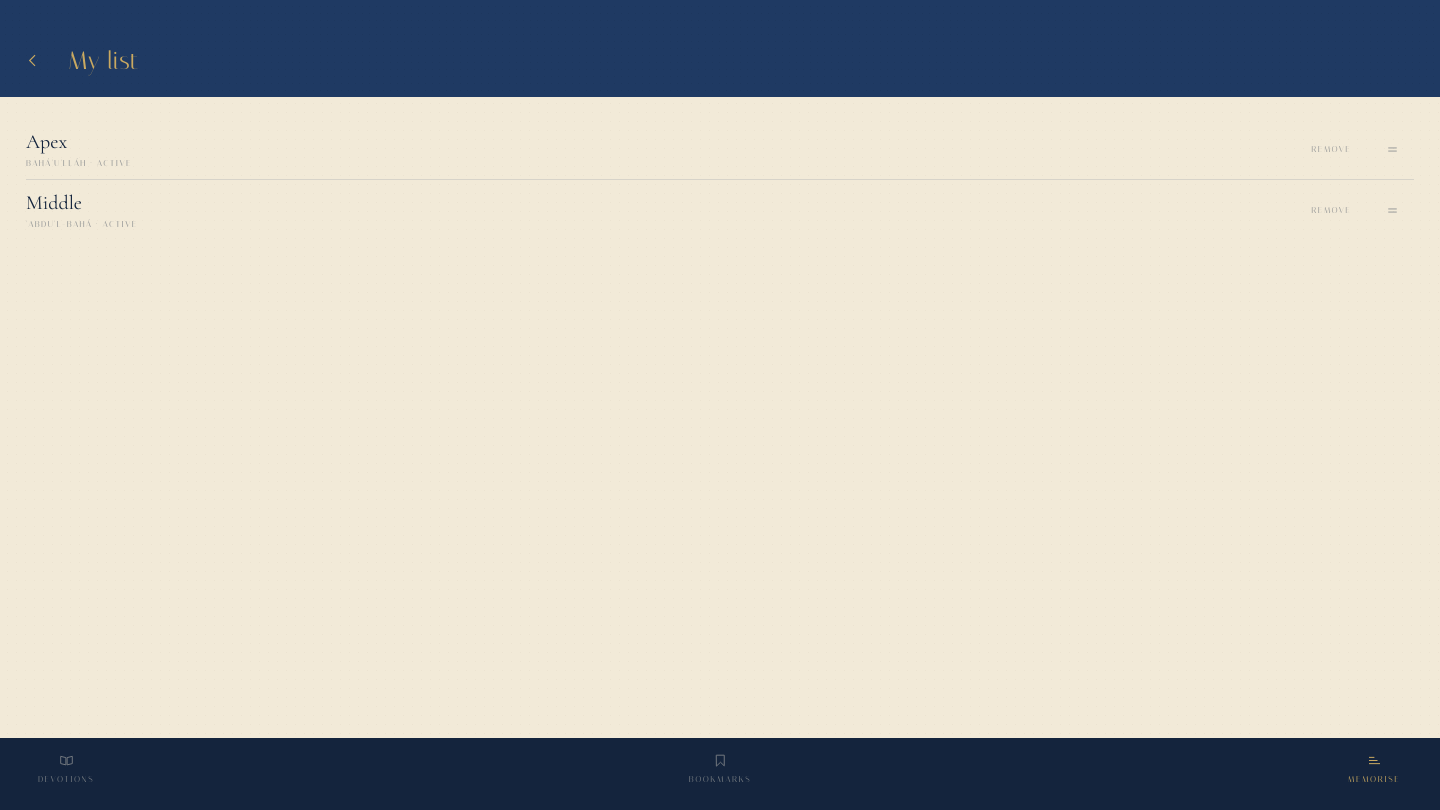
My list, scope 6.5 › says what it did, with a way back, and the way back really works
The width and height of the screenshot is (1440, 810).
What coordinates should you click on to do the following:
click the button with aria-label "Remove Apex"
I would click on:
 (1326, 149)
Its box is [1301,127,1351,171].
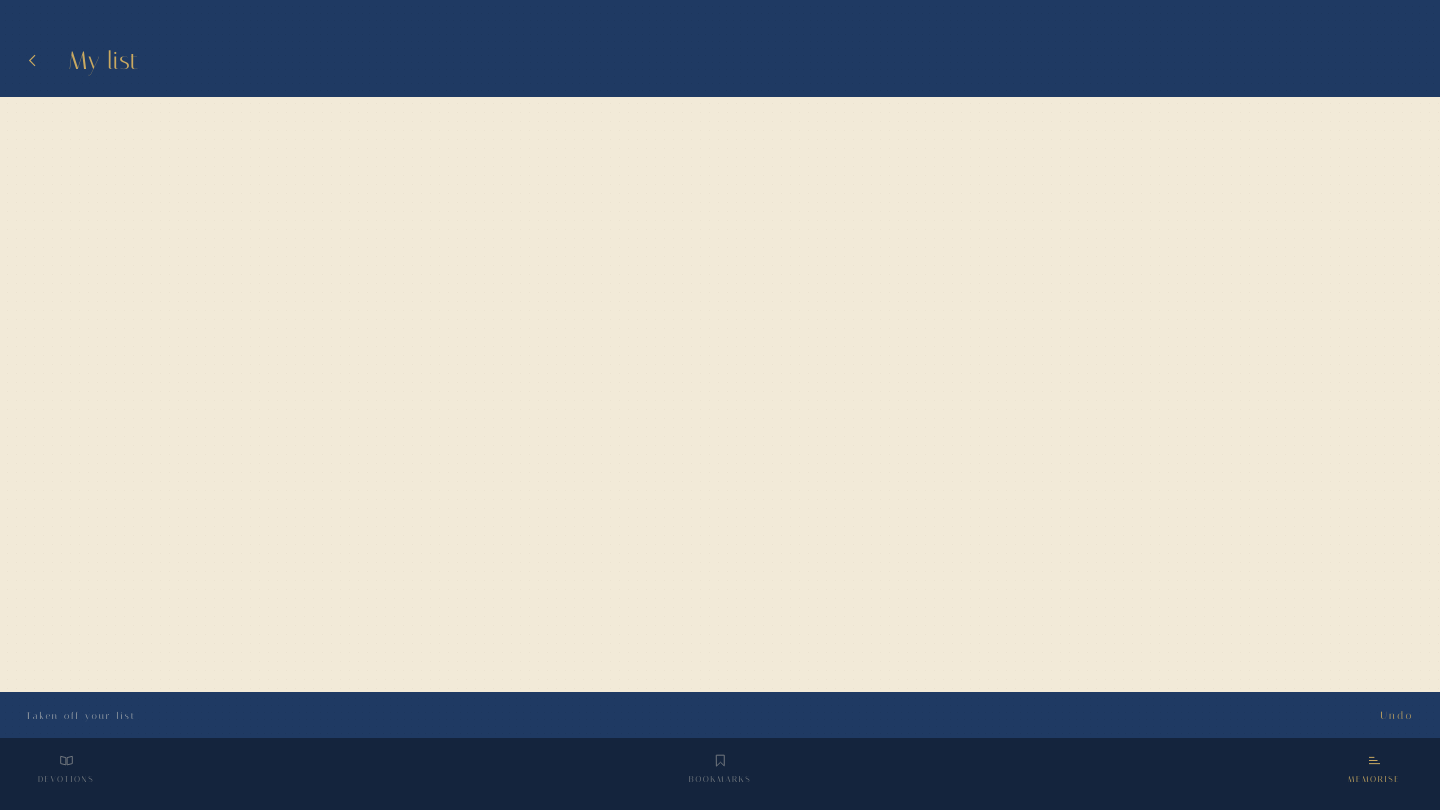
Check: the text "Taken off your list" is shown, box [26,710,136,720]
What coordinates should you click on to do the following:
click the button "Undo"
I would click on:
 (1397, 715)
Its box is [1380,693,1414,737].
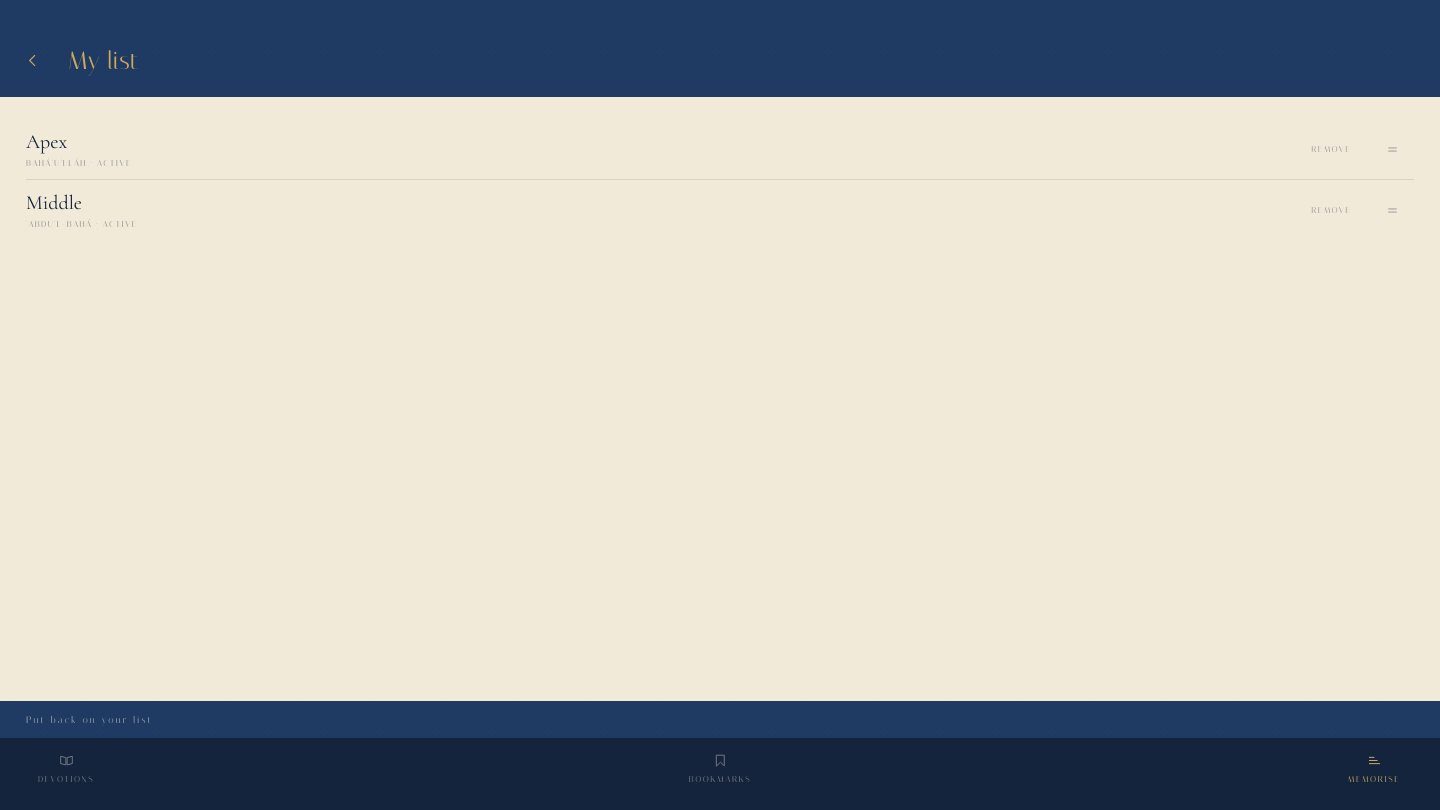
Check: the text "Put back on your list" is shown, box [26,714,153,725]
